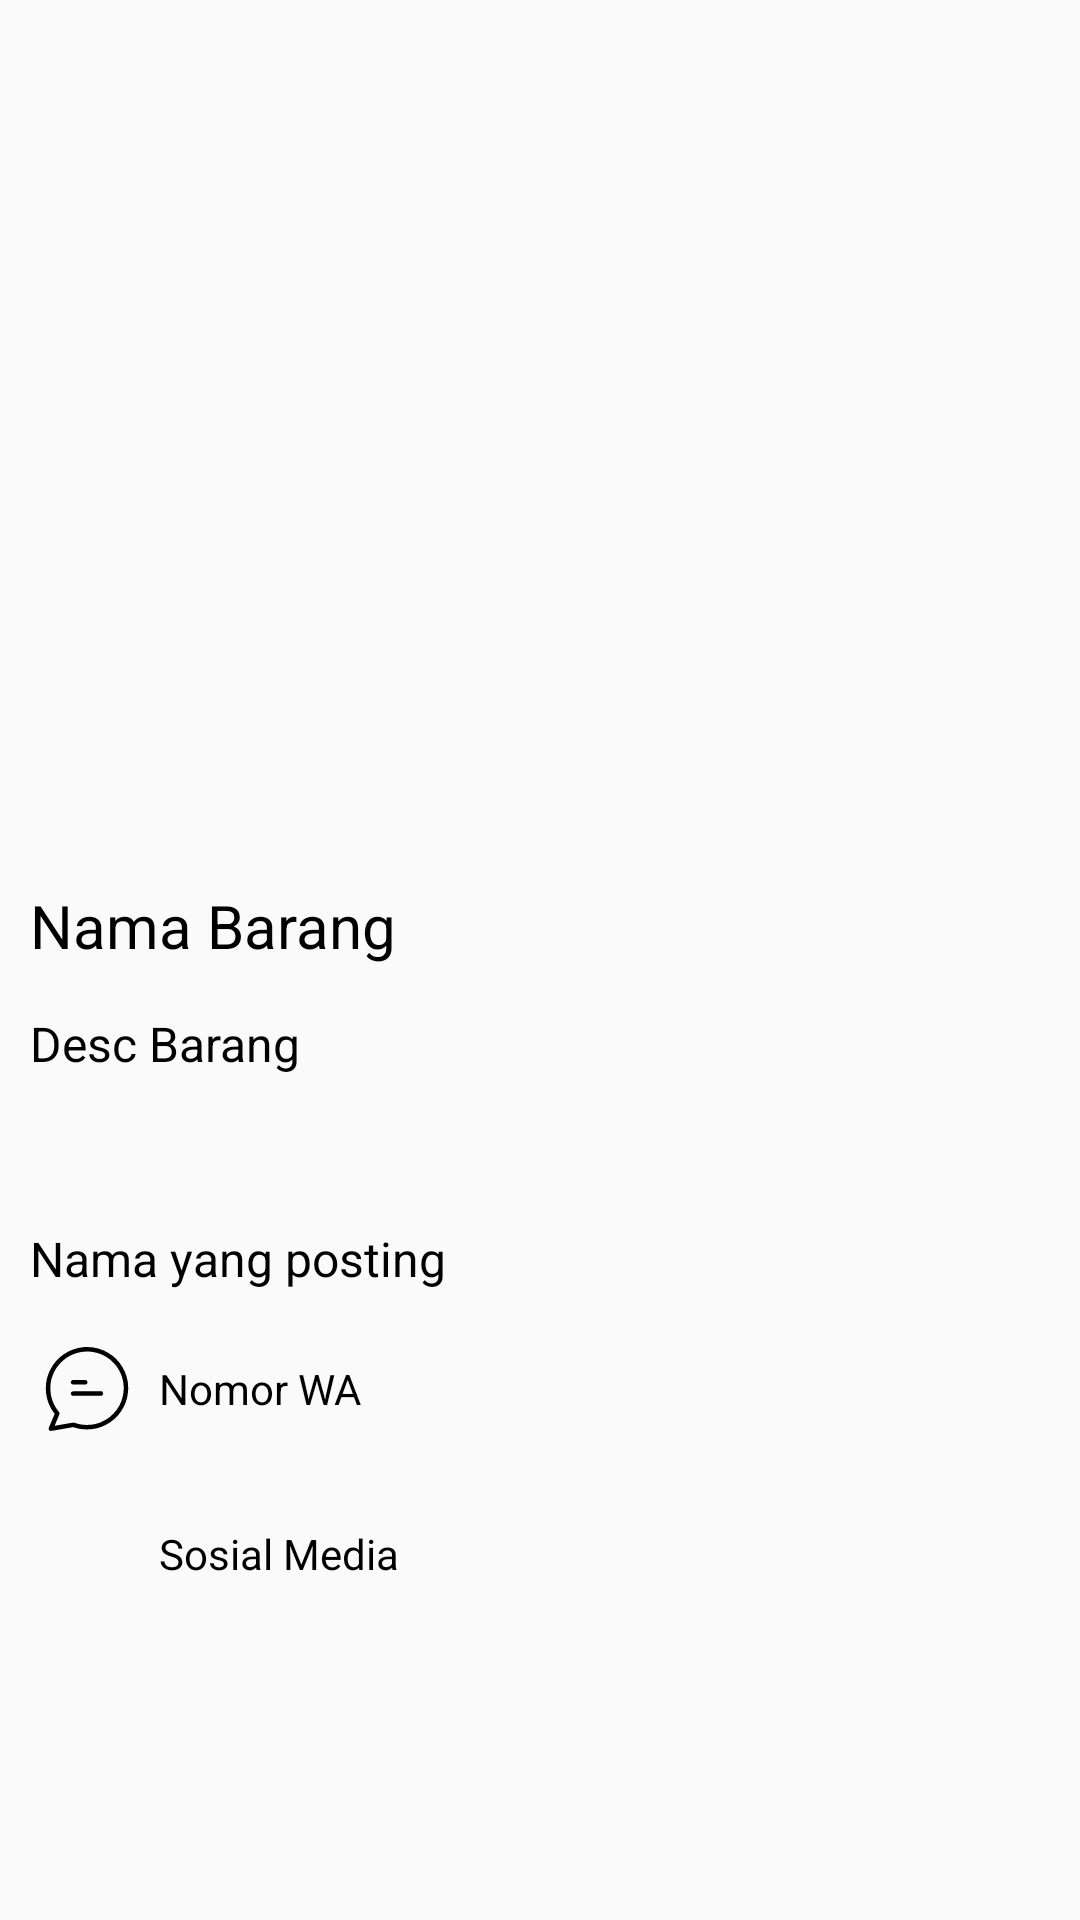

Named icons in this screenshot (1080x1920) and their bounding boxes, (x1, y1, x2, y2):
chat: (45, 1347, 129, 1431)
